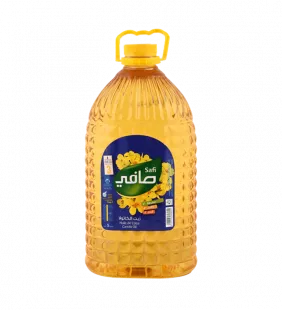SAFI: (76, 20, 204, 284)
